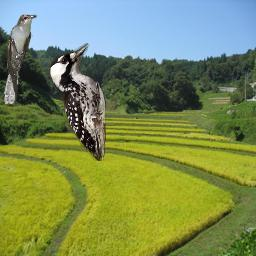Cuckoo: (3, 13, 37, 104)
Woodpecker: (47, 43, 106, 161)
